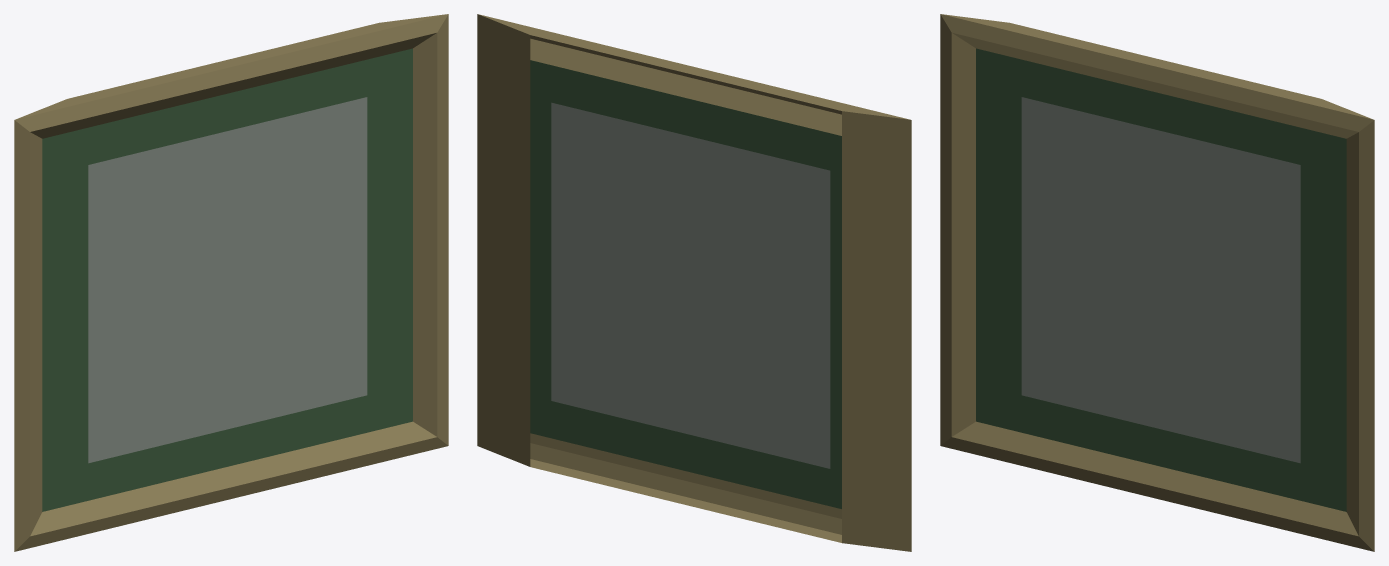
File: frame2.gltf
3 renders of one model, left to right at view 1: azimuth 30°, elevation 25°; view 2: azimuth 150°, elevation 25°; view 3: azimuth 330°, elevation 25°, orthographic.
Visible parts, largest first — view 1: Plane.002; view 2: Plane.002; view 3: Plane.002.
Part boxes in pixels (left/top/right/bottom): Plane.002: left=14, top=14, right=448, bottom=551; Plane.002: left=477, top=14, right=911, bottom=551; Plane.002: left=940, top=14, right=1374, bottom=551.
Bounding box in the file's own units: 0.7644 × 0.7267 × 0.0321.
